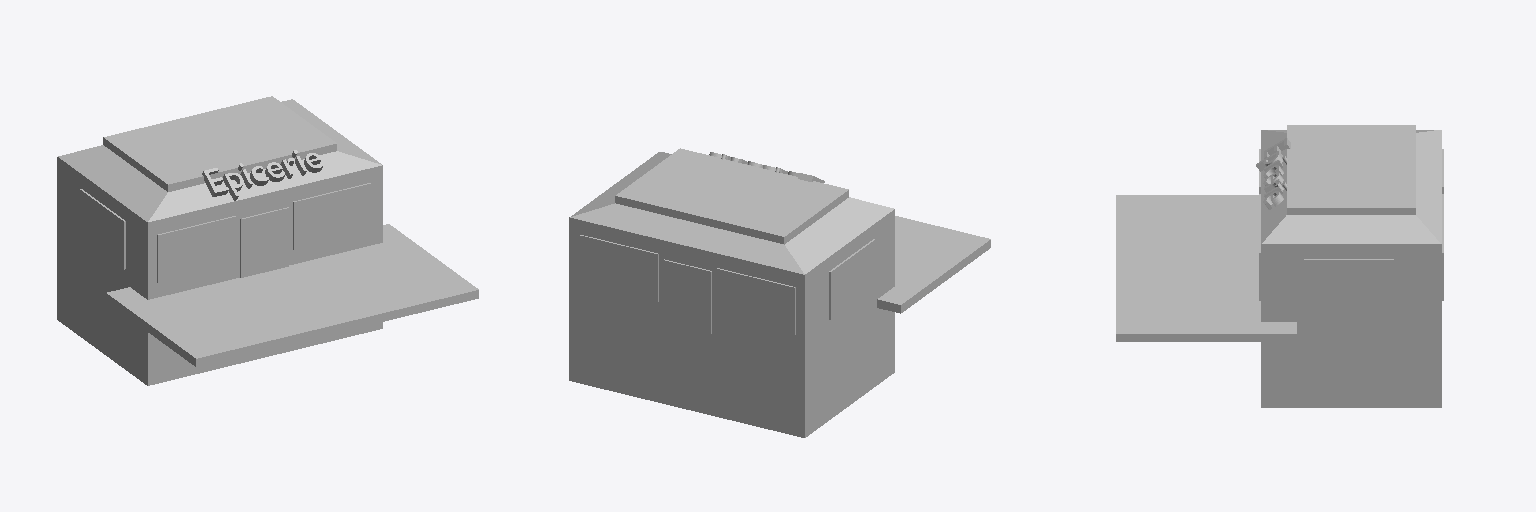
File: grocery_store.obj
The picture shows the model from 3 angles: view 1: azimuth 30°, elevation 25°; view 2: azimuth 150°, elevation 25°; view 3: azimuth 270°, elevation 25°; orthographic projection.
Visible parts, largest first — view 1: Cube.004_Material.004, Cube_Material.005, Cube_Material.006, Cube.001_Material.001, Cube.002_Material.002, Cube.003_Material.003, Cube.005_Material.001, Texte_Matériau; view 2: Cube_Material.005, Cube_Material.006, Cube.004_Material.004, Cube.002_Material.002, Cube.001_Material.001, Cube.003_Material.003, Cube.005_Material.001; view 3: Cube_Material.005, Cube.004_Material.004, Cube_Material.006, Cube.005_Material.001, Texte_Matériau.
Part boxes in pixels (x1,y1,x2,y2): Cube.004_Material.004: (106,224,478,366); Cube_Material.005: (57,157,382,385); Cube_Material.006: (58,96,381,221); Cube.001_Material.001: (157,216,235,282); Cube.002_Material.002: (293,183,371,249); Cube.003_Material.003: (240,207,288,277); Cube.005_Material.001: (79,189,125,269); Texte_Matériau: (202,150,323,200); Cube_Material.005: (569,209,894,437); Cube_Material.006: (570,148,893,274); Cube.004_Material.004: (877,216,990,313); Cube.002_Material.002: (580,235,658,301); Cube.001_Material.001: (717,268,795,335); Cube.003_Material.003: (663,259,711,333); Cube.005_Material.001: (829,239,874,319); Cube_Material.005: (1261,244,1441,407); Cube.004_Material.004: (1116,195,1296,341); Cube_Material.006: (1261,125,1441,243); Cube.005_Material.001: (1304,259,1393,307); Texte_Matériau: (1256,138,1290,209).
Bounding box in the file's own units: 8.03 × 5.13 × 8.04.